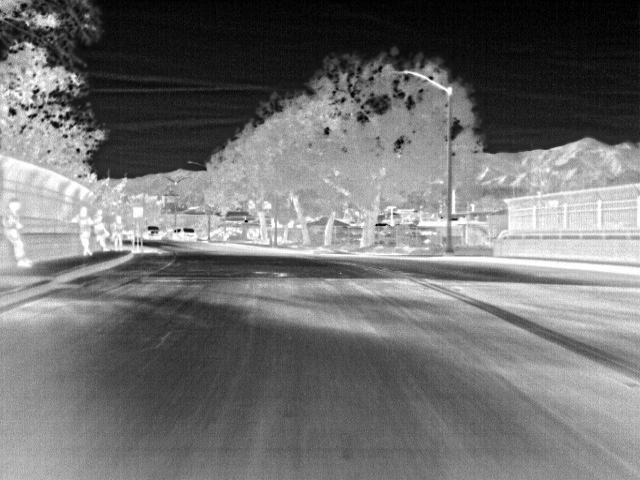car: (145, 225, 161, 239), (181, 228, 198, 241), (171, 227, 182, 242)
person: (4, 199, 34, 269), (78, 205, 95, 257), (95, 209, 111, 249), (111, 213, 126, 248)
